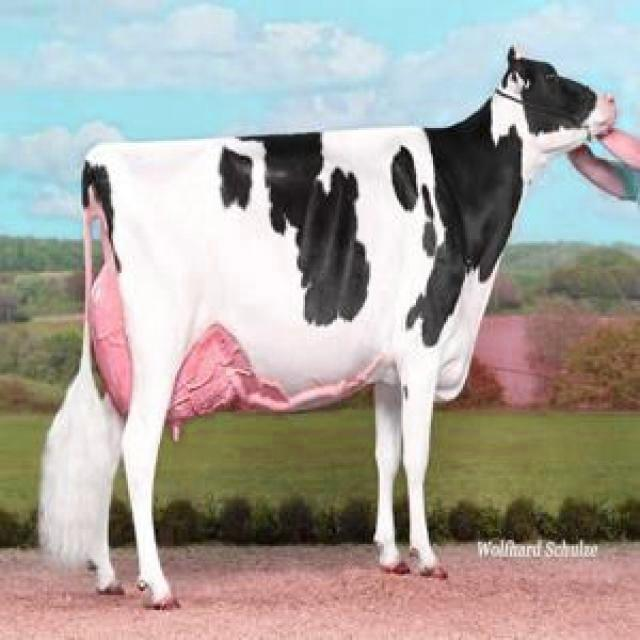cow: (41, 50, 615, 607)
